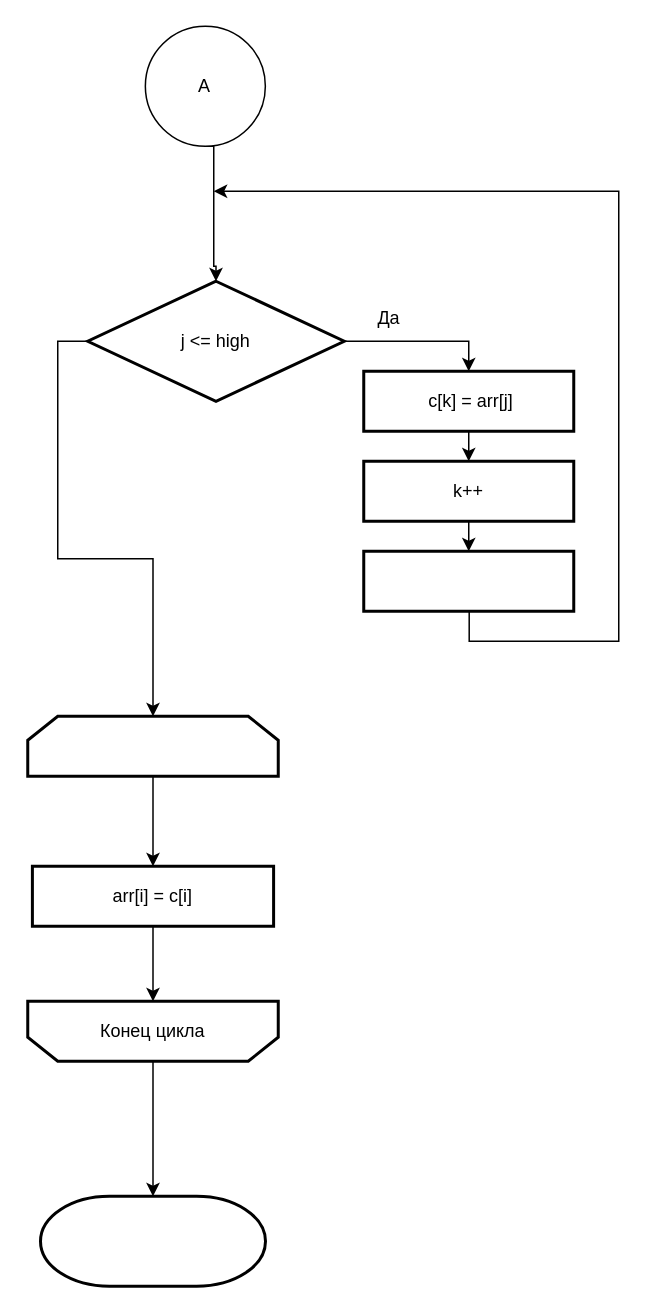
Image size: 657x1314. Some labels were removed from this diagram. Each missing label, with the centre of its shape:
j++: [468,580]
Конец: [152,1240]
Цикл i от low до k: [152,745]
